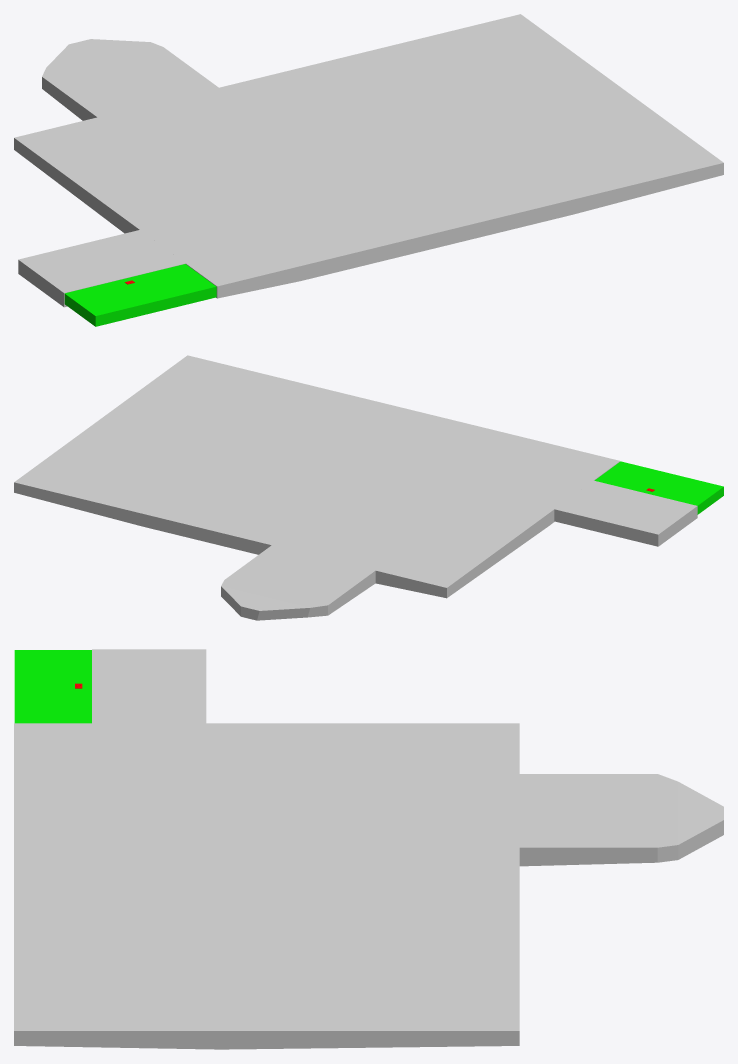
The model's file is Basement ceiling & door.fbx.
3 views of the same model, one above another, from view 1: azimuth 30°, elevation 25°; view 2: azimuth 150°, elevation 25°; view 3: azimuth 270°, elevation 25° (orthographic). The views are drawn at different scales.
Parts seen in each view (by area): view 1: Cube, Torus; view 2: Cube, Torus; view 3: Cube, Torus.
Part boxes in pixels (x1=…): Cube: x1=14, y1=14, x2=723, y2=307; Torus: x1=64, y1=264, x2=216, y2=326; Cube: x1=14, y1=355, x2=697, y2=620; Torus: x1=594, y1=461, x2=723, y2=514; Cube: x1=14, y1=649, x2=723, y2=1049; Torus: x1=14, y1=650, x2=91, y2=723.
Bounding box in the file's own units: 2079 × 48.04 × 1635.
